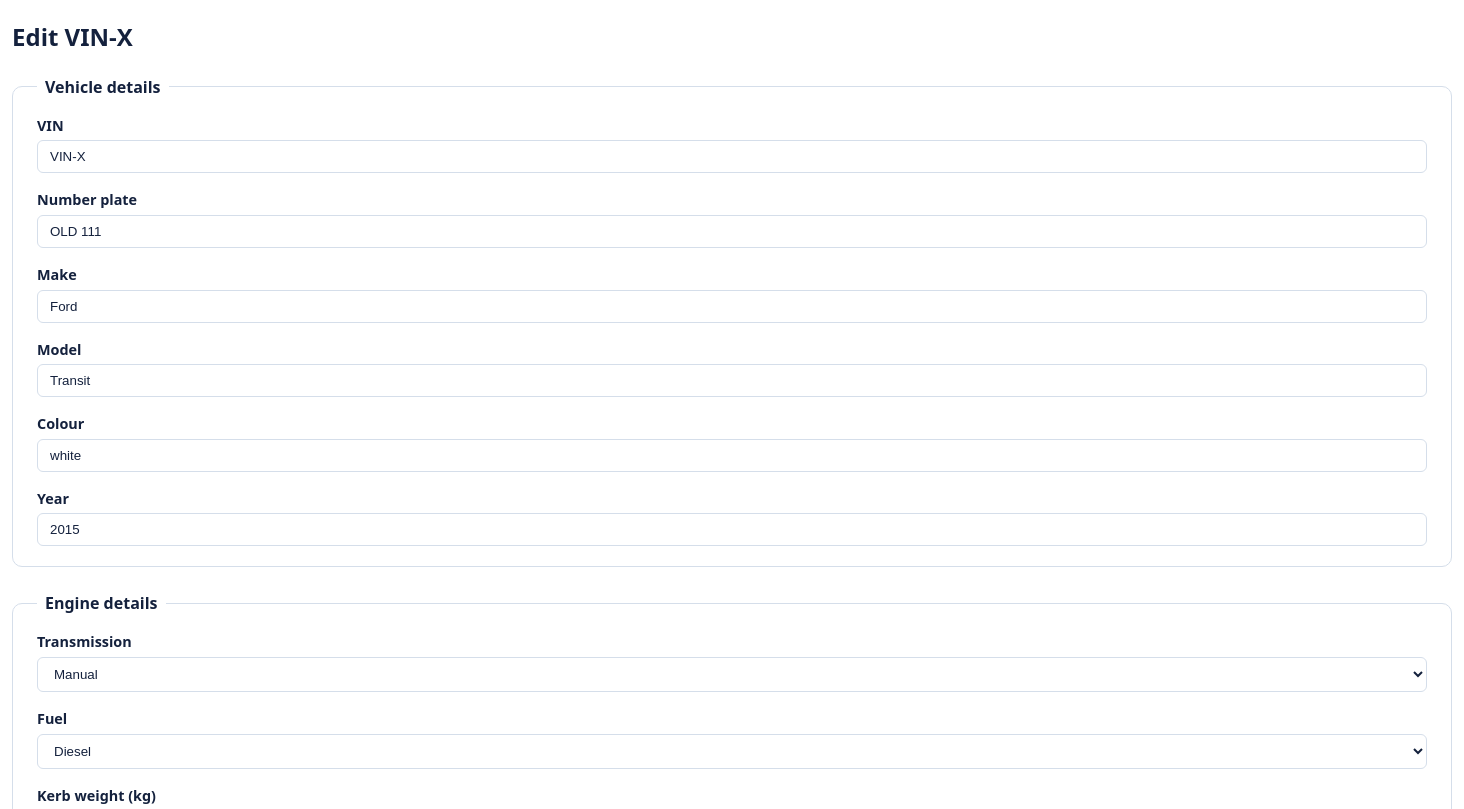
Test: saves changes and returns to the detail page
Replace the text in the field labelled "Number plate" with "NEW 222" at (732, 232), box [37,215,1427,248]
(page scrolled)
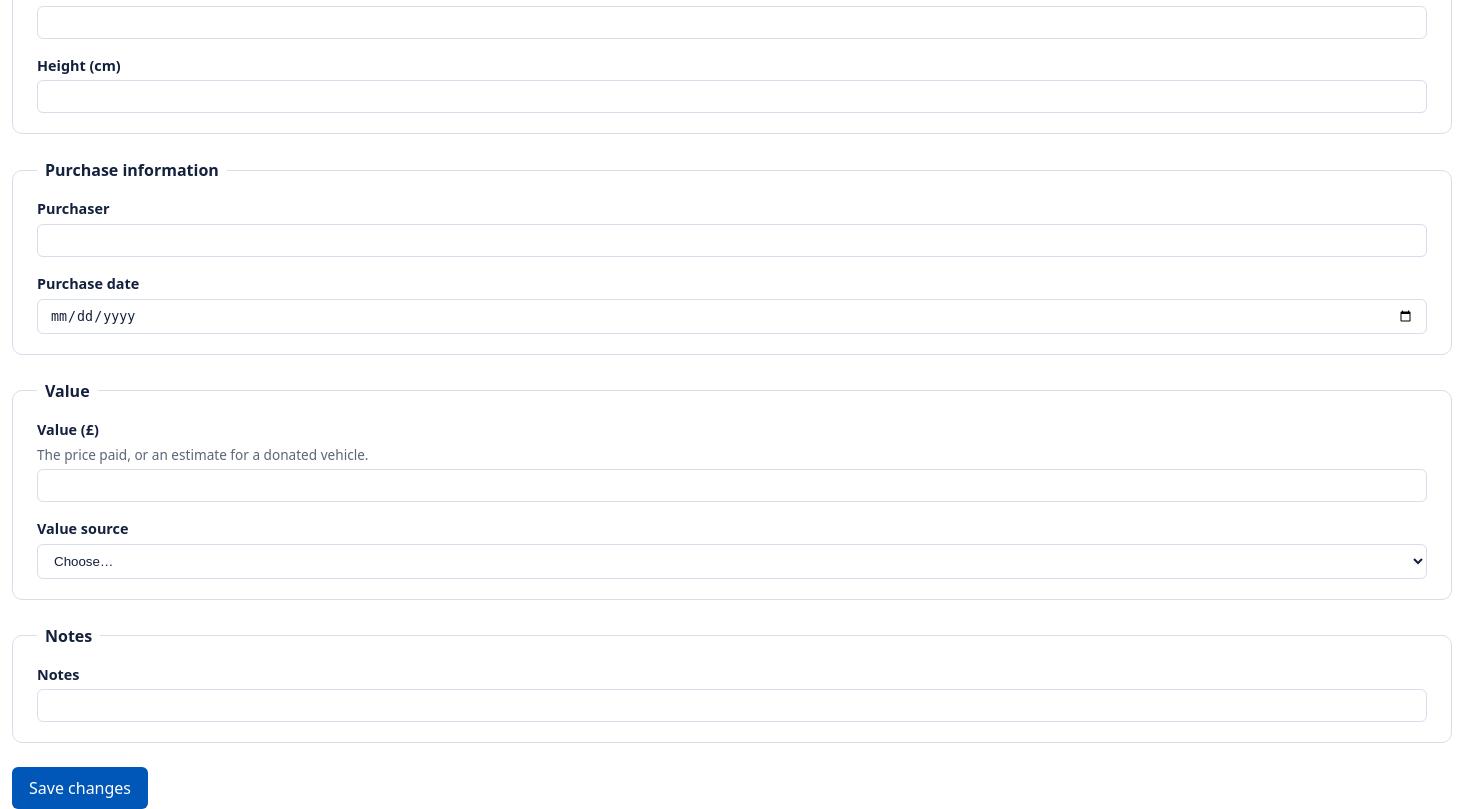
Click the button "Save changes" at (80, 788), box [12,767,148,808]
(page scrolled)
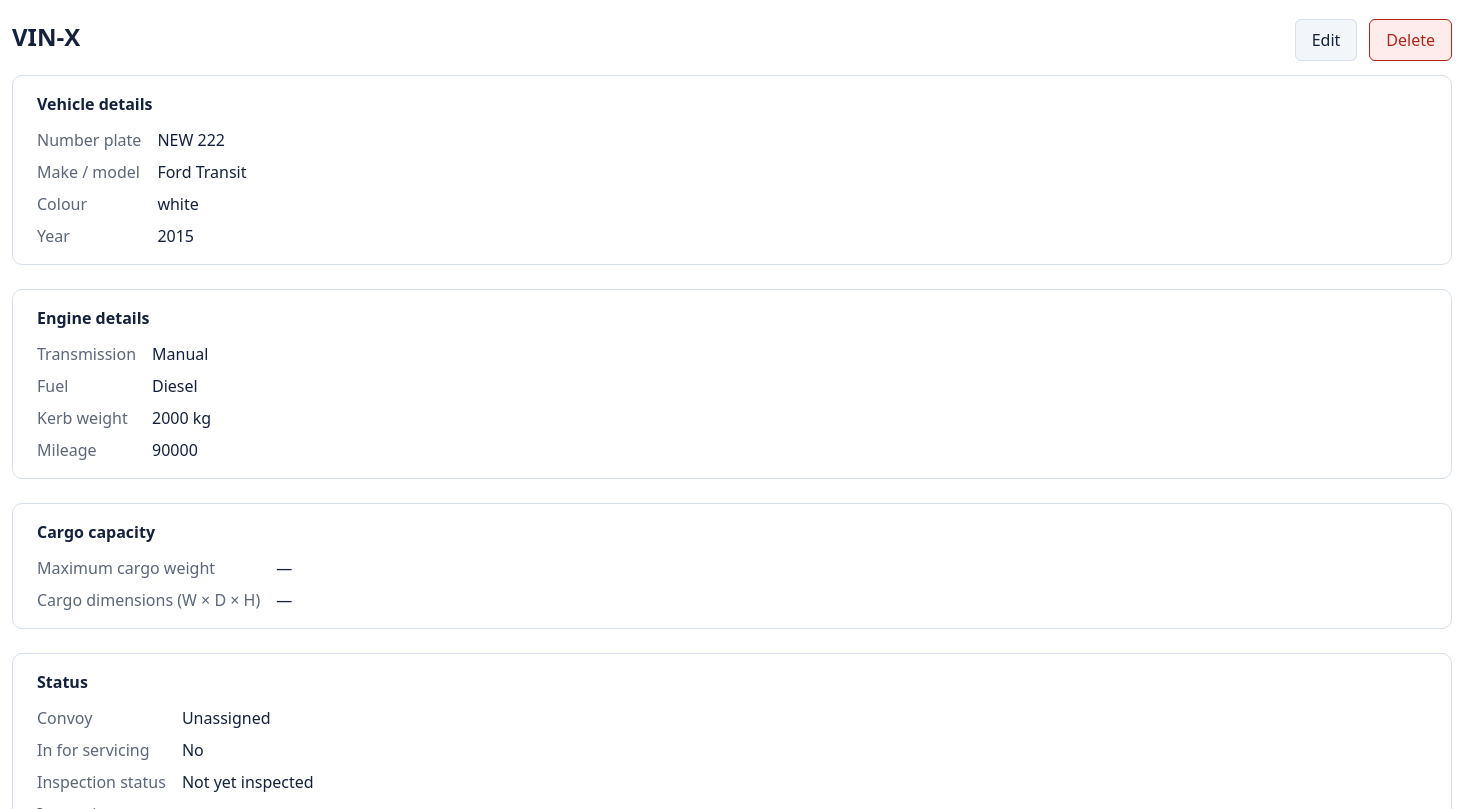
Expected: the heading "VIN-X" is shown, [12,19,80,55]
Now the text "NEW 222" is shown, box [157,129,225,151]
